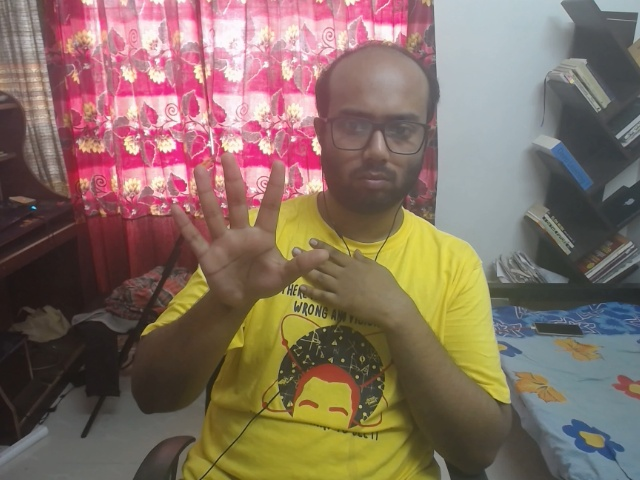five: (144, 145, 335, 312)
